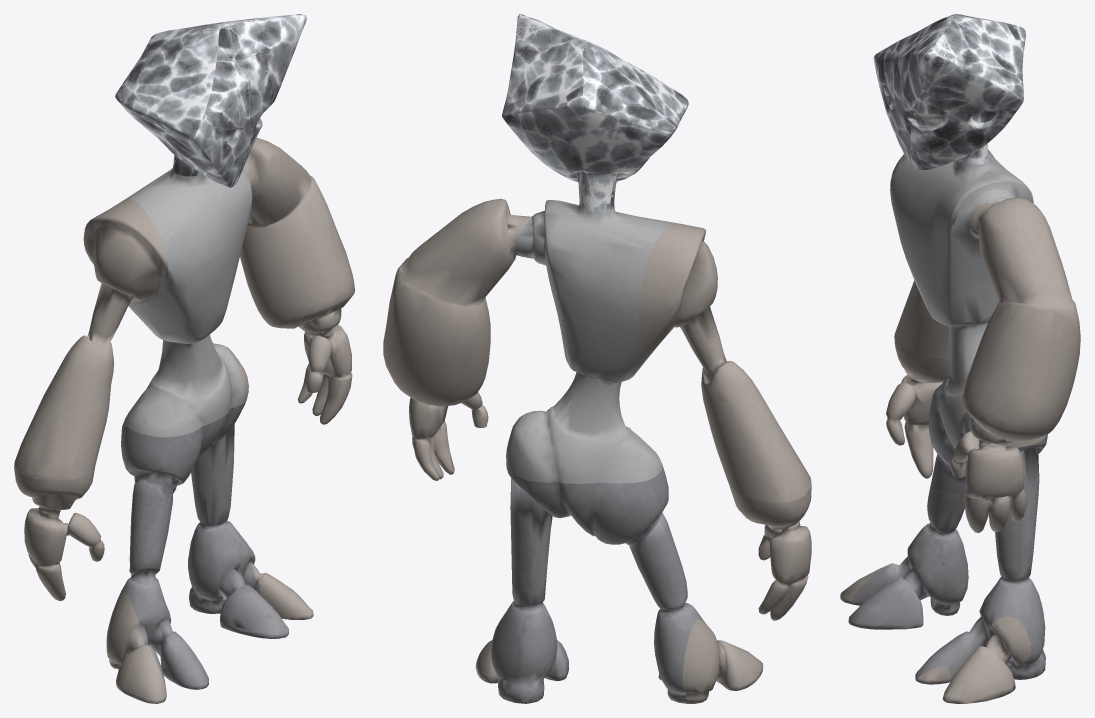
File: 02-taper-tallstalk--humanoid_robot_3d_model1.glb
3 views of the same model, side by side, from view 1: azimuth 30°, elevation 25°; view 2: azimuth 150°, elevation 25°; view 3: azimuth 270°, elevation 25° (orthographic). The views are drawn at different scales.
Visible parts, largest first — view 1: arms_mesh, feet_mesh, body_mesh, head_mesh; view 2: arms_mesh, body_mesh, feet_mesh, head_mesh; view 3: arms_mesh, feet_mesh, head_mesh, body_mesh.
Boxes of the visible parts, bbox=[...] form: arms_mesh: bbox=[14, 137, 354, 703]; feet_mesh: bbox=[118, 400, 288, 690]; body_mesh: bbox=[124, 168, 252, 437]; head_mesh: bbox=[115, 14, 306, 187]; arms_mesh: bbox=[383, 198, 811, 703]; body_mesh: bbox=[508, 200, 682, 483]; feet_mesh: bbox=[491, 464, 719, 703]; head_mesh: bbox=[502, 14, 688, 212]; arms_mesh: bbox=[840, 149, 1080, 703]; feet_mesh: bbox=[848, 400, 1047, 682]; head_mesh: bbox=[873, 14, 1025, 169]; body_mesh: bbox=[890, 152, 1047, 441].
Bounding box in the file's own units: 1.86 × 3 × 1.02.
Materials: 4 (4 with a texture image).
